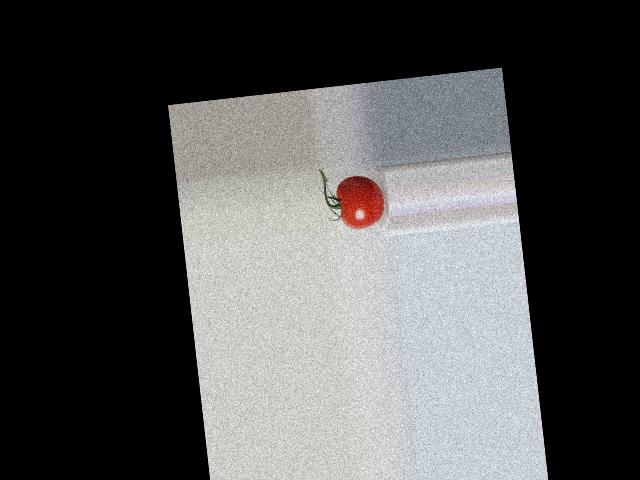tomato: (335, 172, 386, 231)
